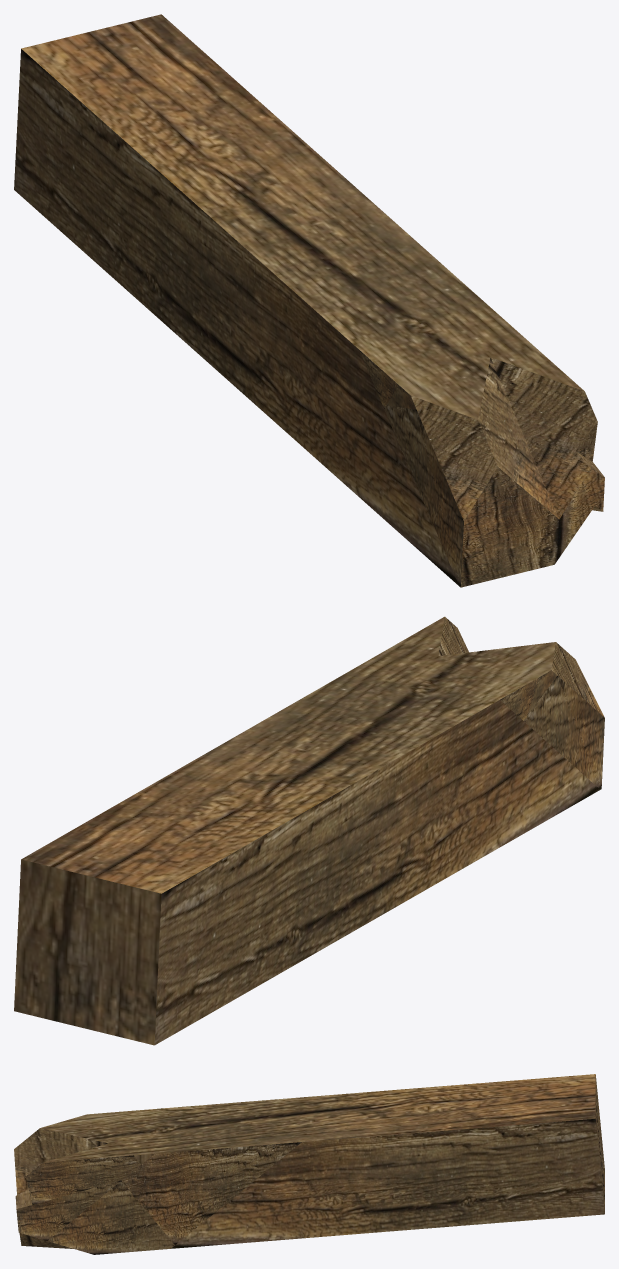
File: beamBroken002.dae
The picture shows the model from 3 angles, top to bottom: view 1: azimuth 30°, elevation 25°; view 2: azimuth 150°, elevation 25°; view 3: azimuth 270°, elevation 25°; orthographic projection. The views are drawn at different scales.
Parts seen in each view (by area): view 1: beamBroken002; view 2: beamBroken002; view 3: beamBroken002.
Boxes of the visible parts, box(x1,y1,x2,y2) form: beamBroken002: box(14, 14, 604, 587); beamBroken002: box(14, 616, 604, 1045); beamBroken002: box(14, 1074, 604, 1254).
Size of the model in its own units: 1 by 5.58 by 1.48.
Materials: 1 (1 with a texture image).
